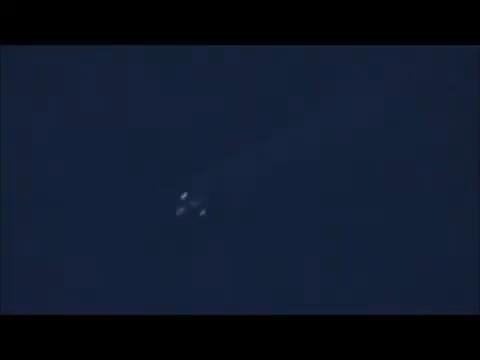Plane: (150, 181, 227, 227)
